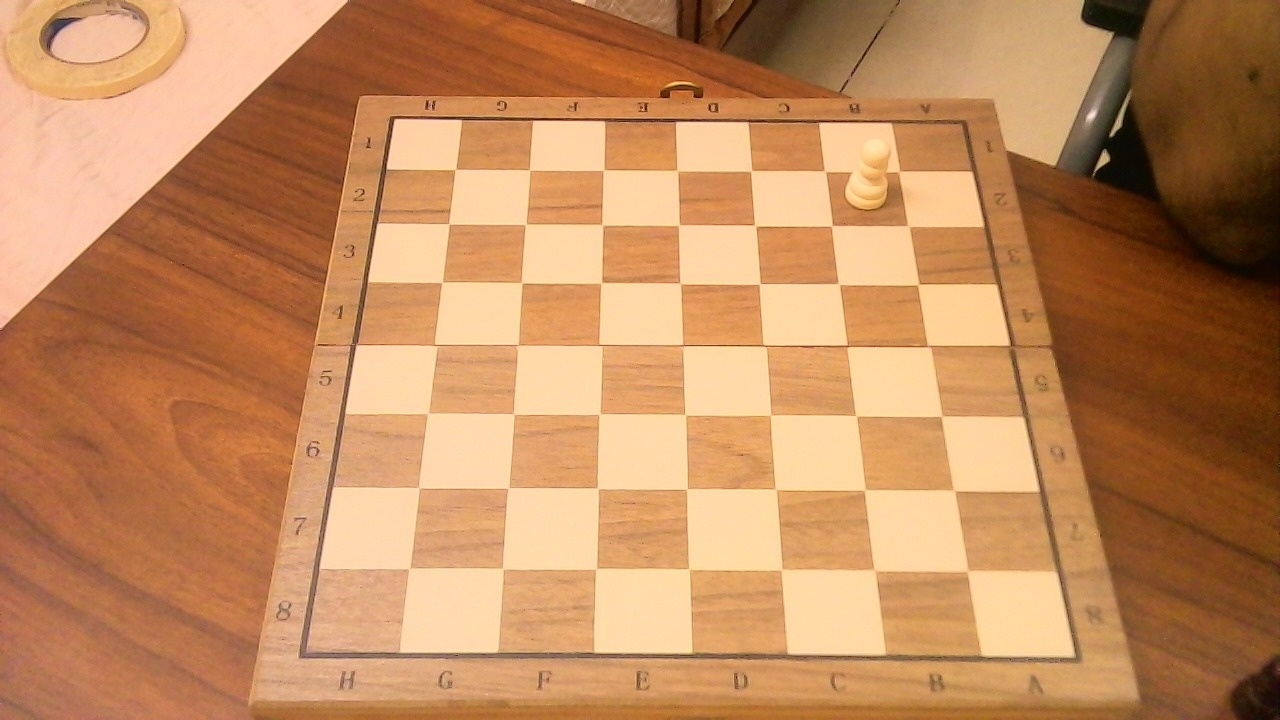P: (837, 129, 900, 213)
